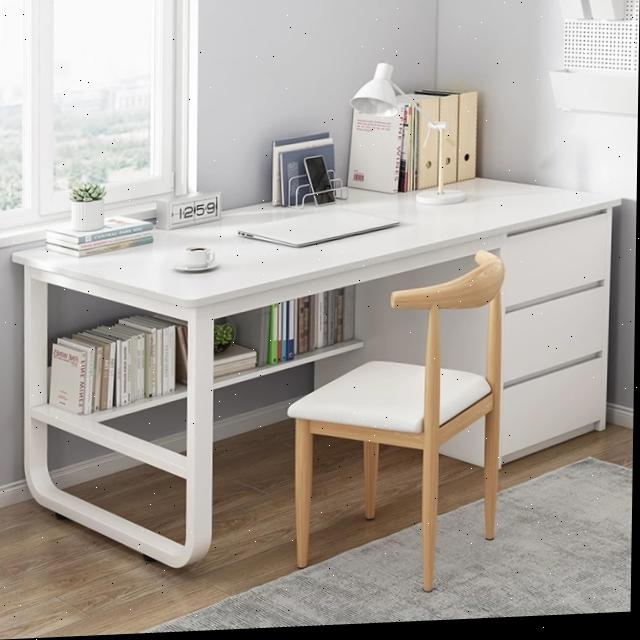chair: (285, 247, 511, 602)
table: (15, 182, 624, 575)
